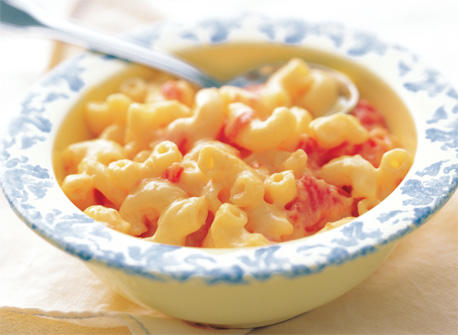macncheese: (47, 56, 408, 246)
